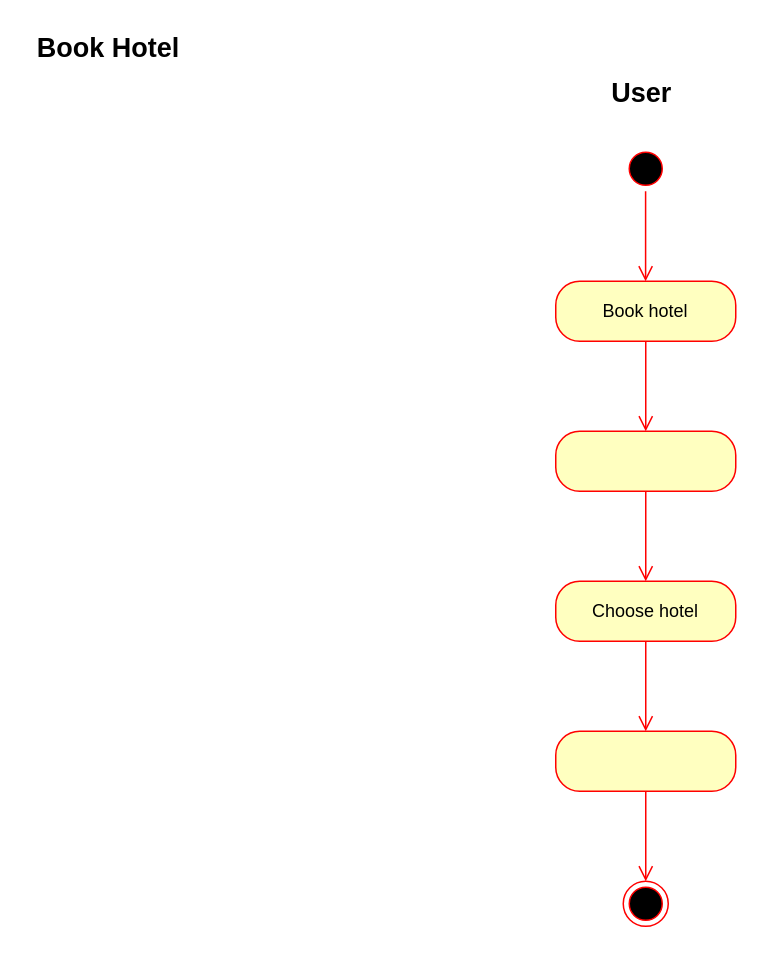
Some shapes in this 762 by 953 pixel diagram are drawn without their labels. The box of each missing label's shape, as (x1, y1, x2, y2) in pixels:
Enter reservation details: (554, 430, 736, 491)
Make reservations: (554, 730, 736, 791)
